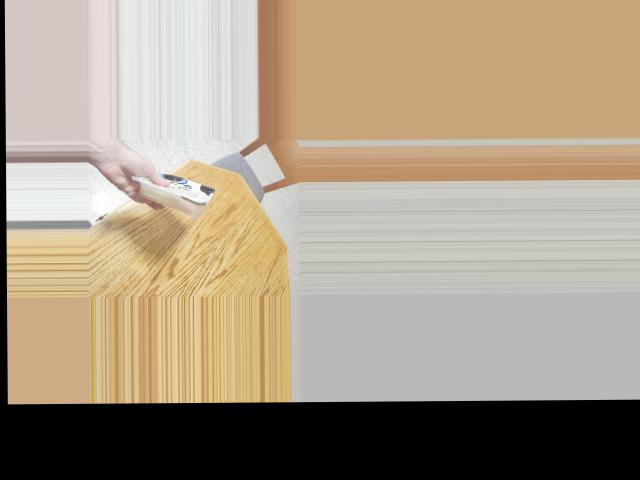cheese: (139, 159, 211, 220)
